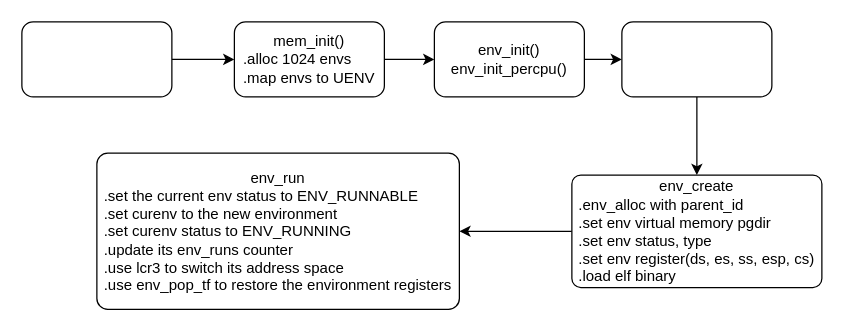
This 844x331 diagram has some shape labels left out. The shapes that lost their labels are listed below. From the top down, each one's box as (x1, y1, x2, y2) in pixels, then its label:
(21, 21, 172, 97): i386_init()
(621, 21, 772, 97): trap_init()
